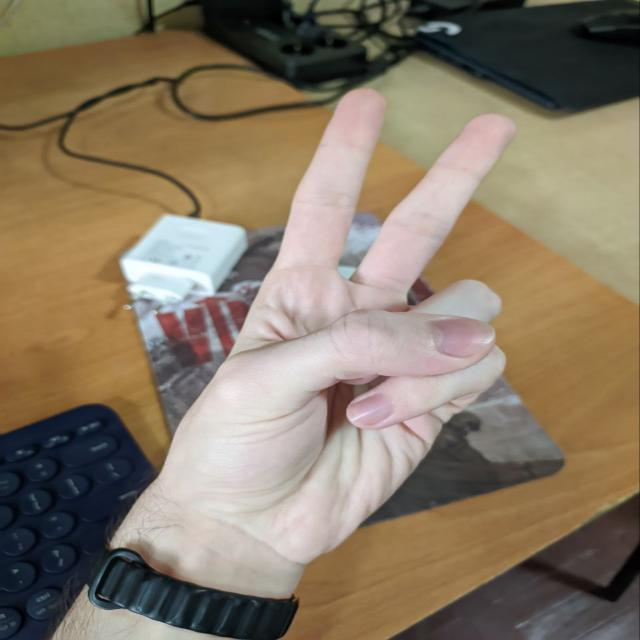k: (175, 79, 508, 524)
